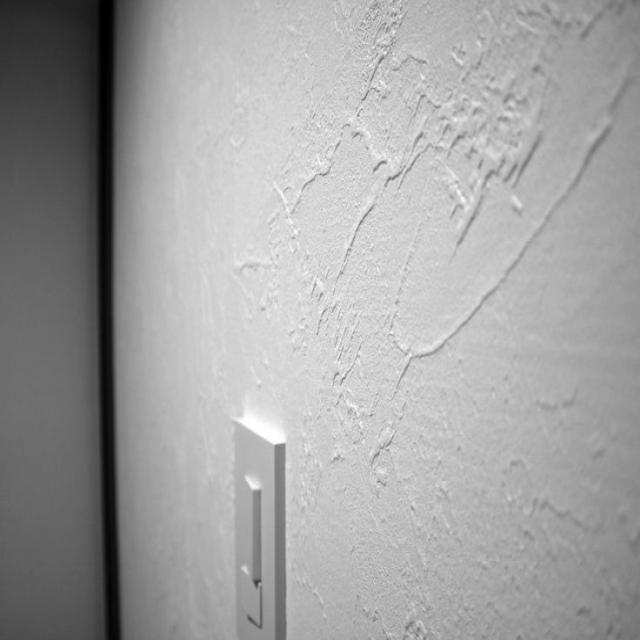trowels marks: (225, 3, 640, 640)
